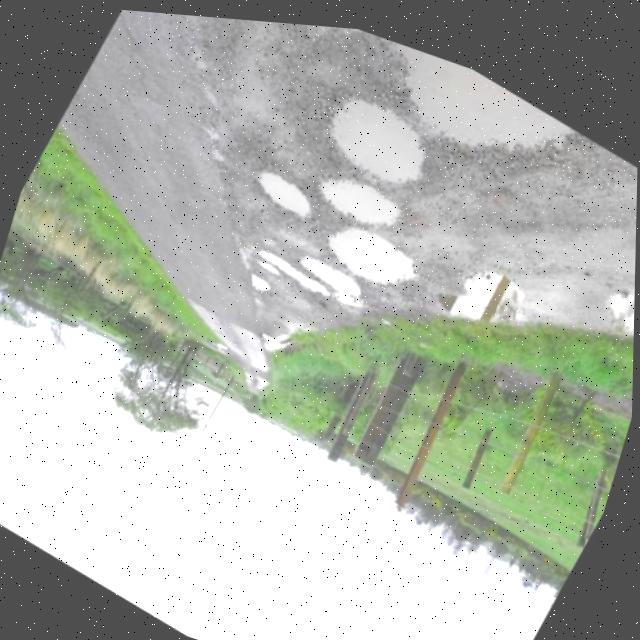Pothole: (222, 14, 640, 239), (285, 66, 483, 217), (400, 212, 571, 368), (227, 200, 417, 340), (307, 137, 429, 248), (575, 157, 638, 361), (314, 202, 441, 303), (246, 276, 354, 392), (238, 140, 359, 238), (233, 248, 322, 322)
